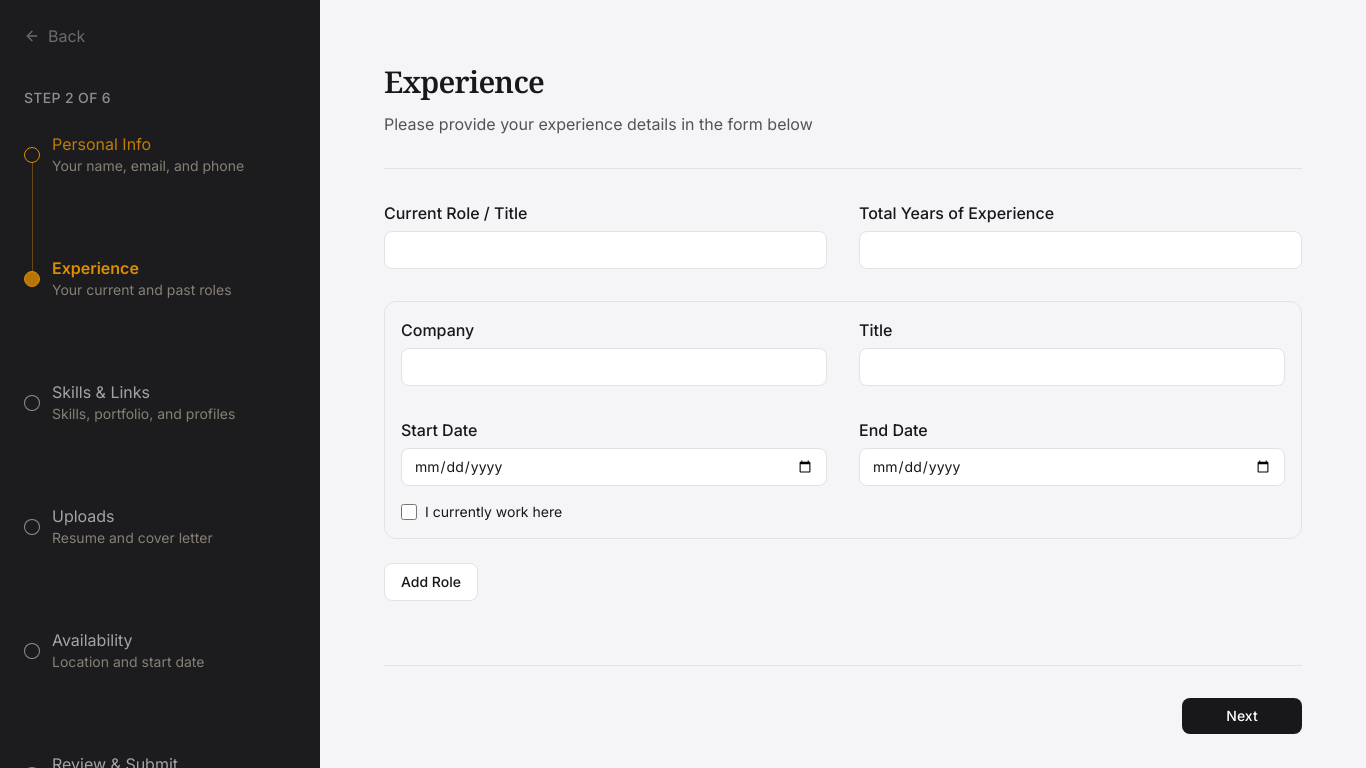
Test: ExperienceStep — currently-working-here exclusivity › requires an End Date for a non-current role on submit
Step 1. Type "Engineer" into the field labelled "Current Role / Title" → (606, 250), box top-left (384, 231), bottom-right (827, 269)
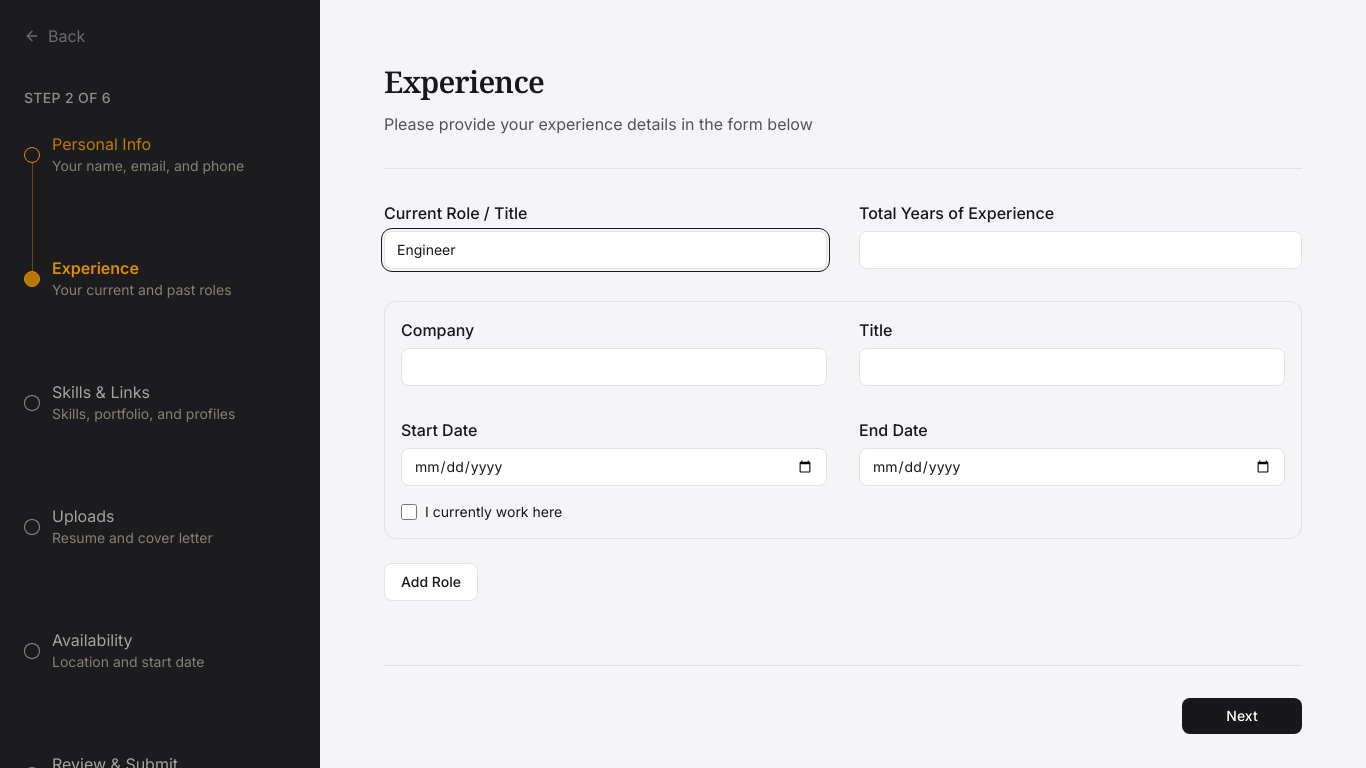
Step 2. Type "5" into the number field labelled "Total Years of Experience" → (1080, 250), box top-left (859, 231), bottom-right (1302, 269)
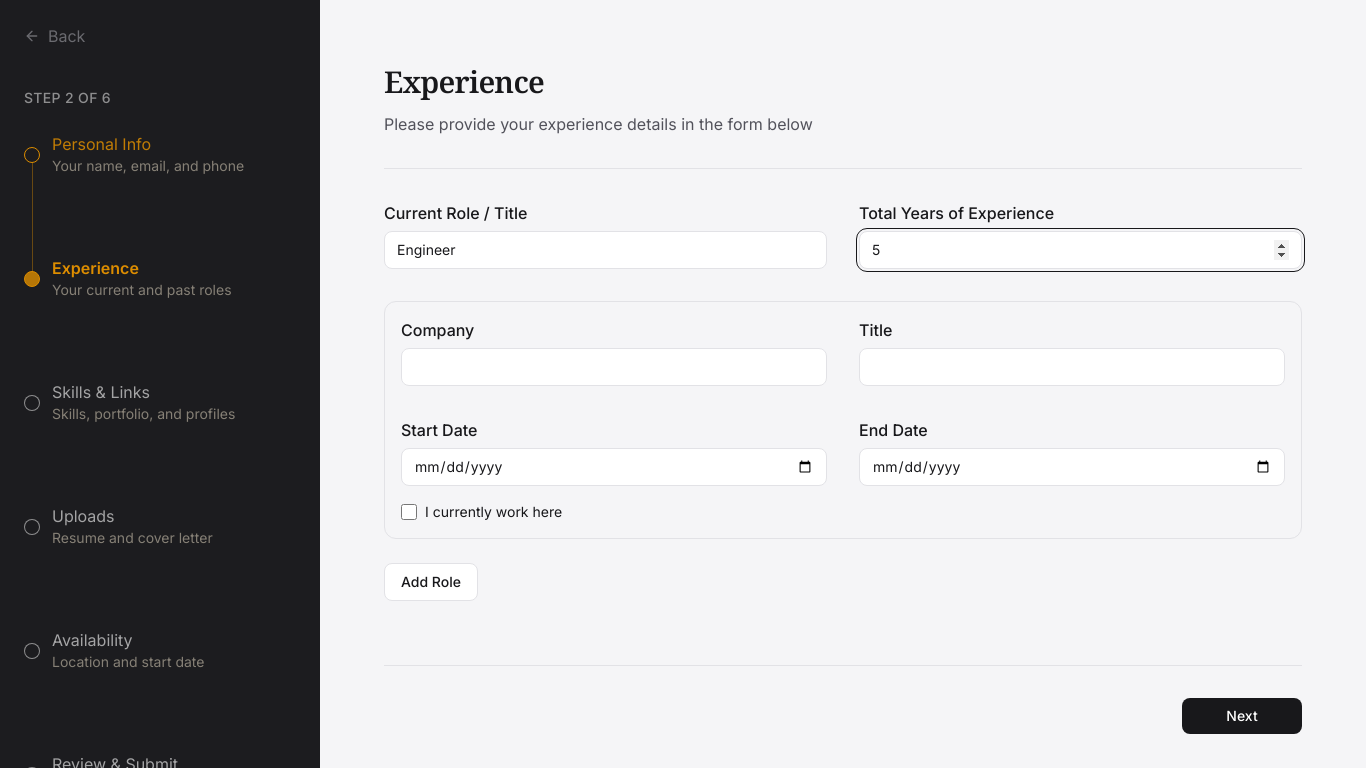
Step 3. Type "XYZ Corp" into the field labelled "Company" → (614, 367), box top-left (401, 348), bottom-right (827, 386)
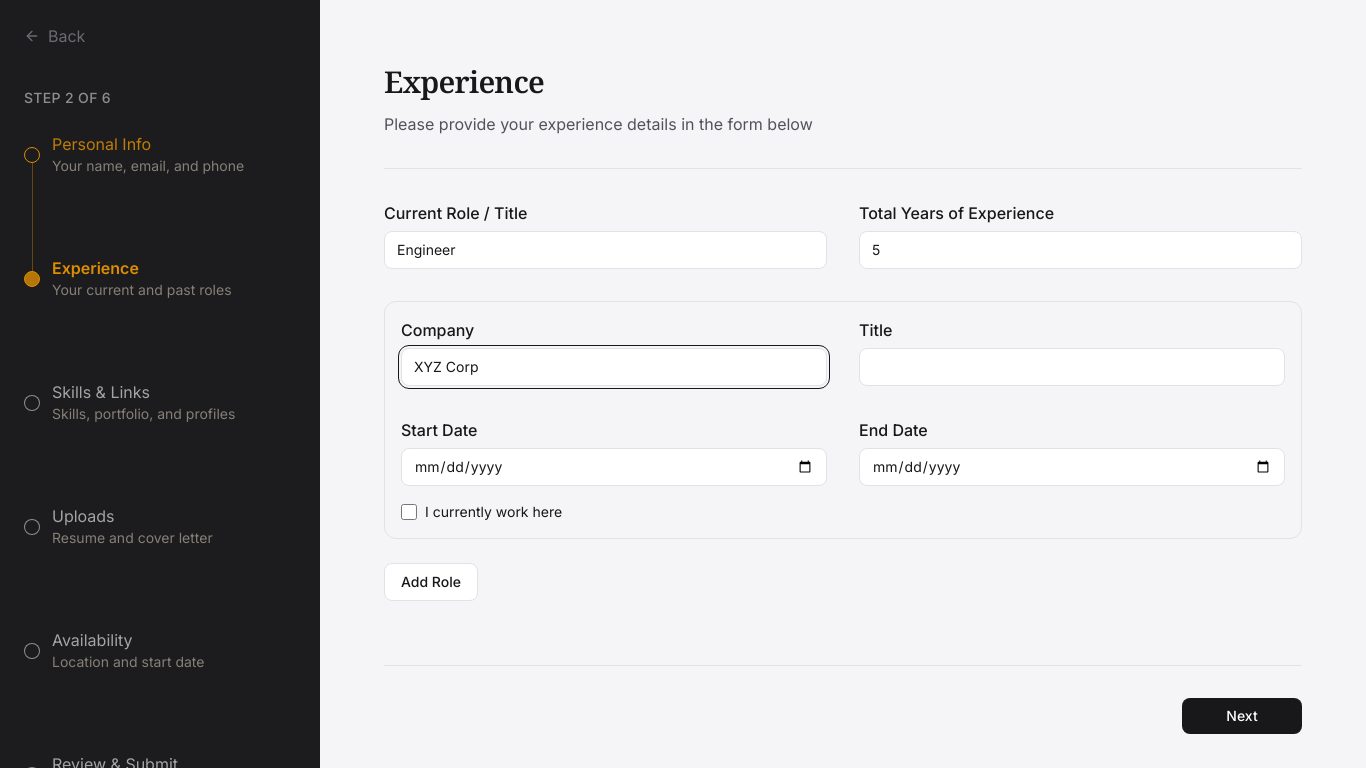
Step 4. Type "Engineer" into the field labelled "Title" → (1072, 367), box top-left (859, 348), bottom-right (1285, 386)
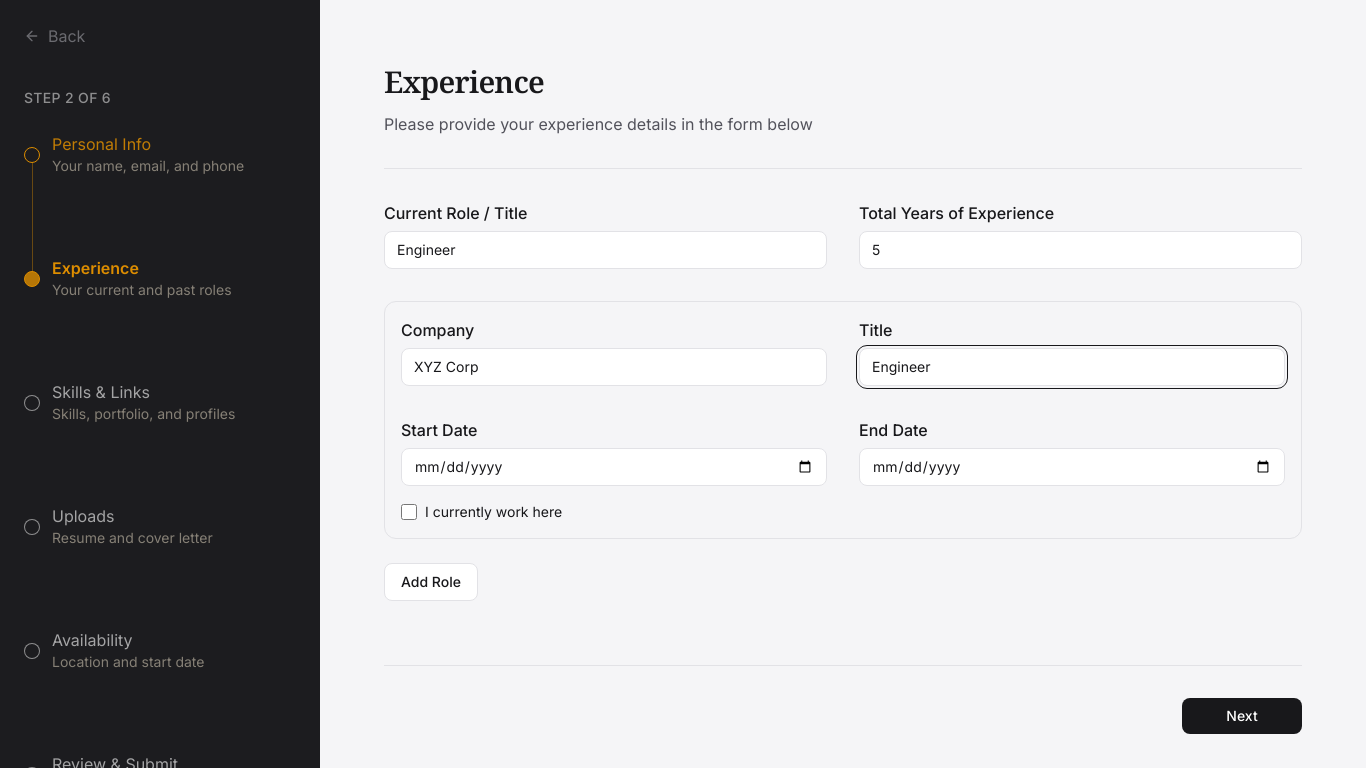
Step 5. Type "2020-01-01" into the date field labelled "Start Date" → (614, 467), box top-left (401, 448), bottom-right (827, 486)
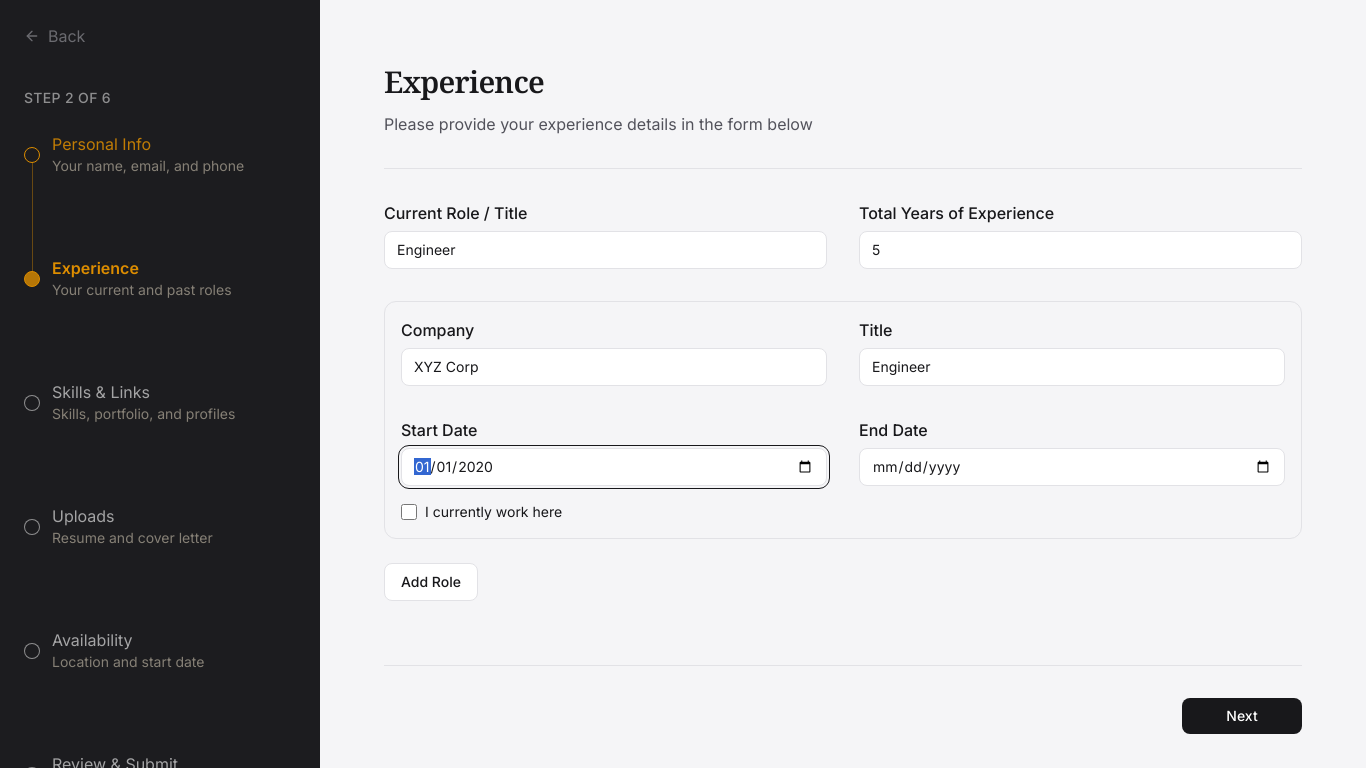
Step 6. Click the button "Next" → (1242, 716), box top-left (1182, 698), bottom-right (1302, 734)
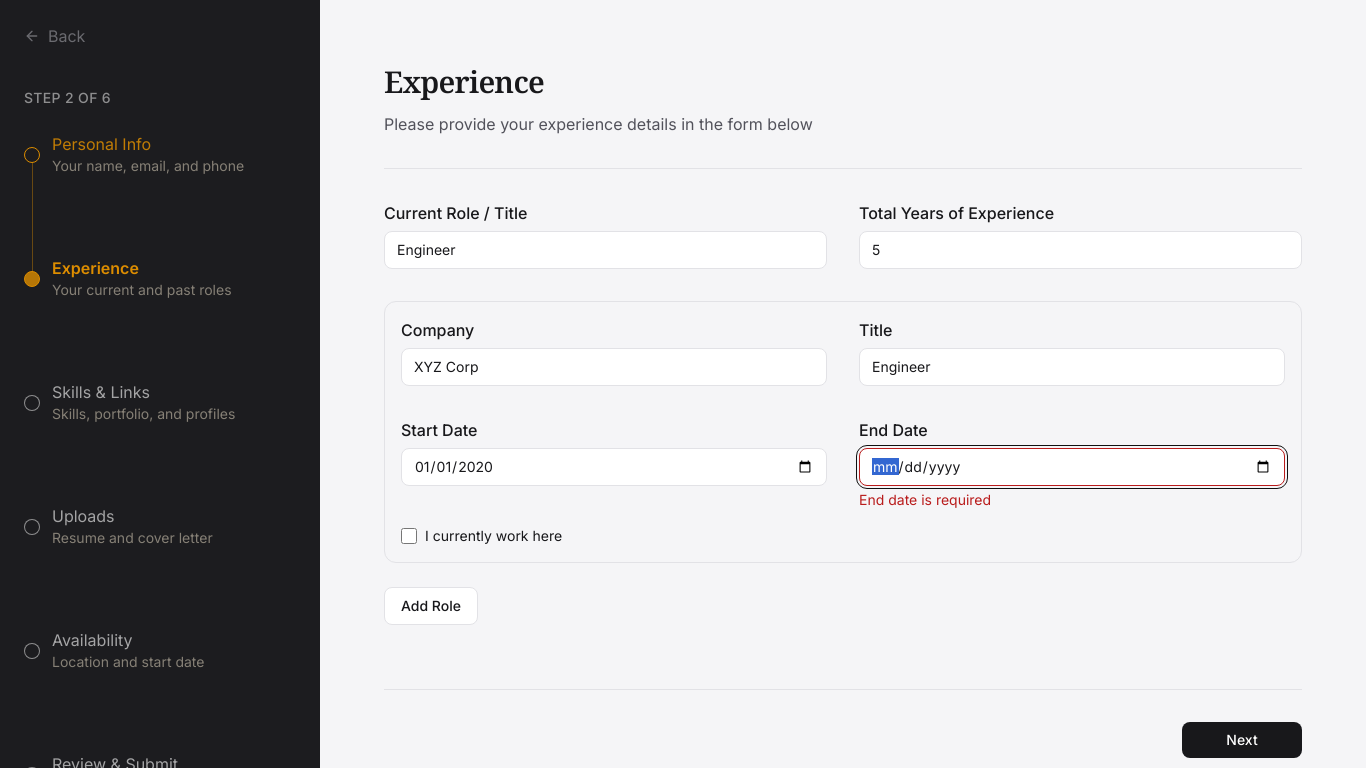
Expected: the text "End date is required" is shown, top-left (859, 491), bottom-right (991, 508)
